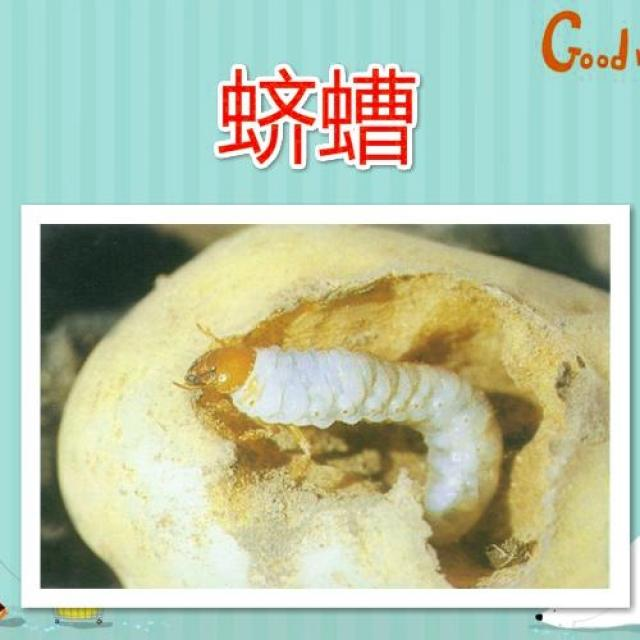grub: (191, 345, 510, 541)
